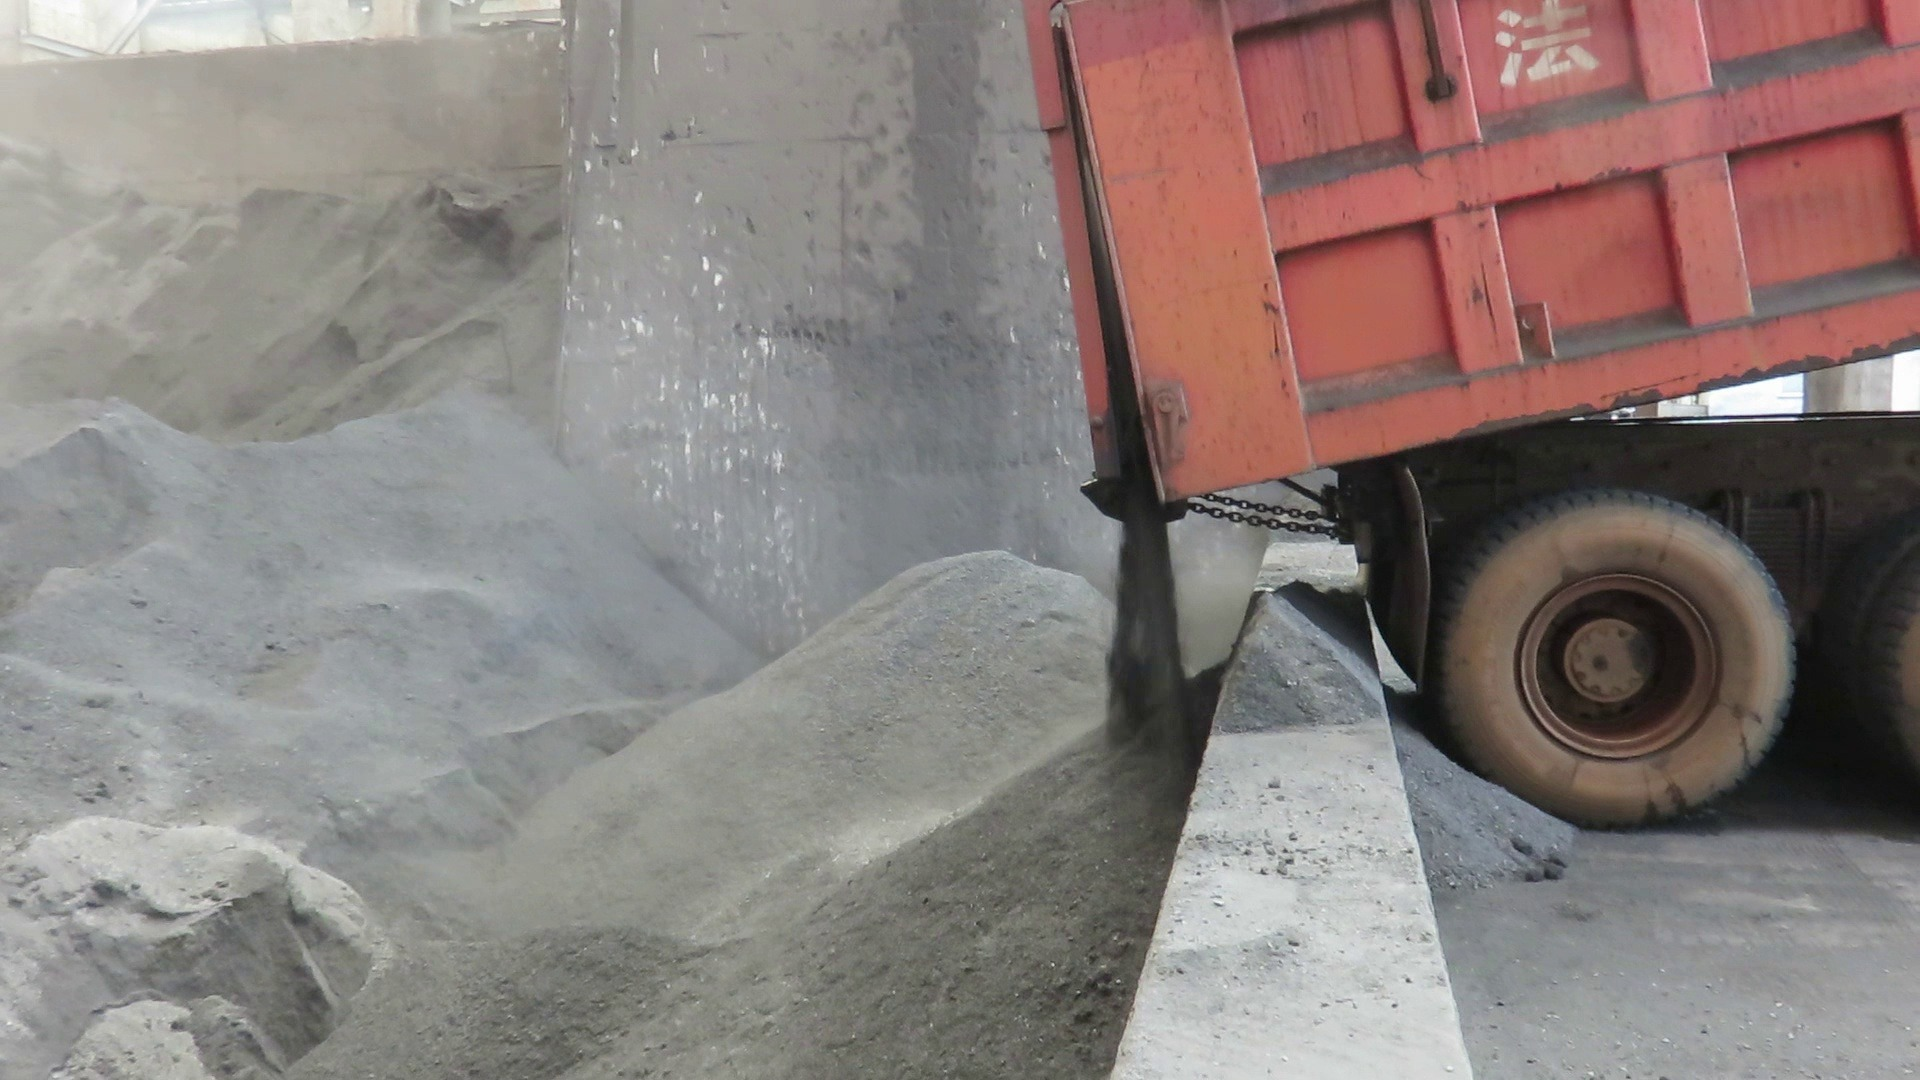dust: (11, 21, 1048, 814)
truck: (1007, 0, 1919, 853)
